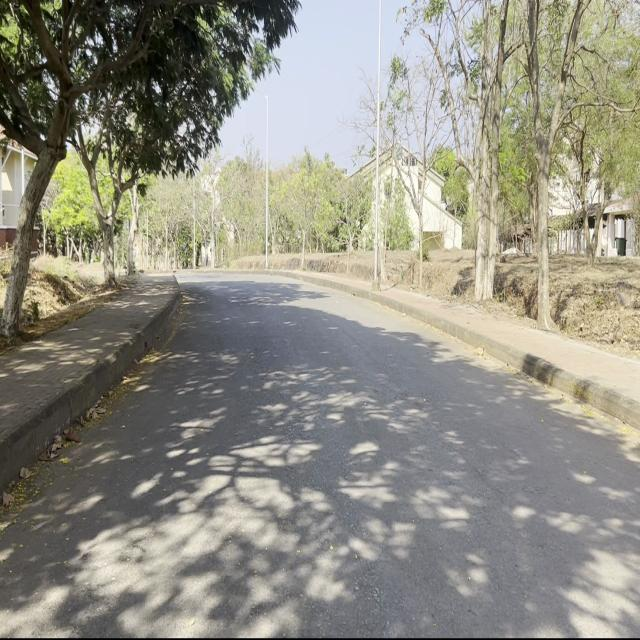Road: (3, 272, 638, 632)
